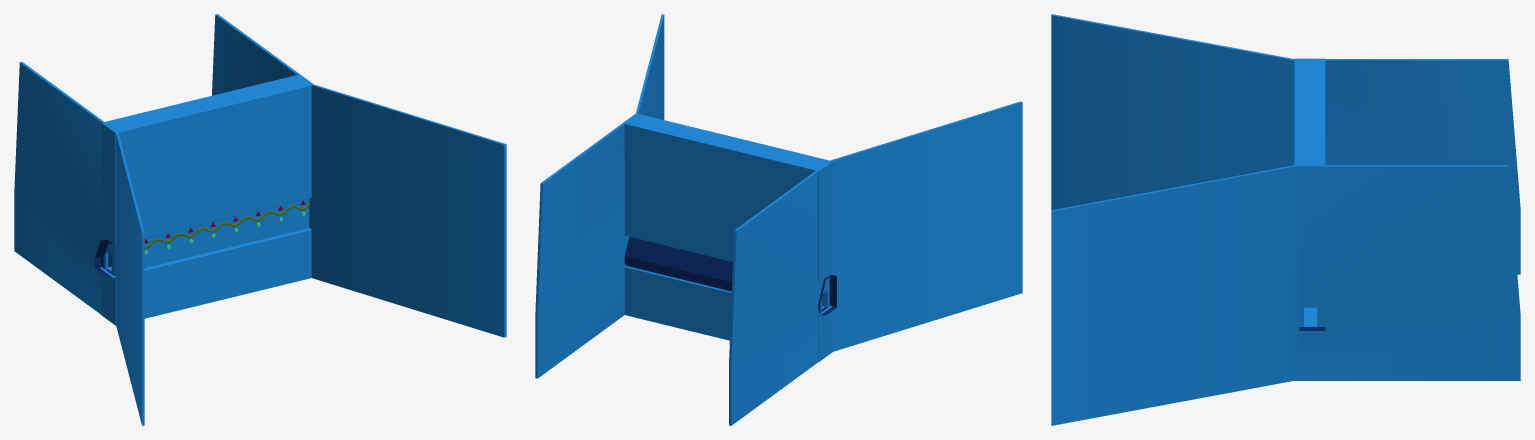
File: hall.fbx
3 renders of one model, left to right at view 1: azimuth 30°, elevation 25°; view 2: azimuth 150°, elevation 25°; view 3: azimuth 270°, elevation 25°, orthographic. The views are drawn at different scales.
Visible parts, largest first — view 1: Cube.007, Cube.011, Cube.010, Cube.014, BezierCurve.001; view 2: Cube.007, Cube.011, Cube.010, Cube.006; view 3: Cube.007, Cube.011.
Part boxes in pixels (x1=…): Cube.007: x1=14, y1=14, x2=506, y2=425; Cube.011: x1=101, y1=75, x2=311, y2=245; Cube.010: x1=100, y1=228, x2=311, y2=325; Cube.014: x1=144, y1=198, x2=309, y2=267; BezierCurve.001: x1=144, y1=203, x2=309, y2=248; Cube.007: x1=535, y1=14, x2=1022, y2=425; Cube.011: x1=624, y1=114, x2=832, y2=282; Cube.010: x1=624, y1=266, x2=832, y2=362; Cube.006: x1=624, y1=237, x2=828, y2=313; Cube.007: x1=1051, y1=14, x2=1520, y2=425; Cube.011: x1=1294, y1=58, x2=1325, y2=165.
Size of the model in its own units: 4684 by 2370 by 4698.
